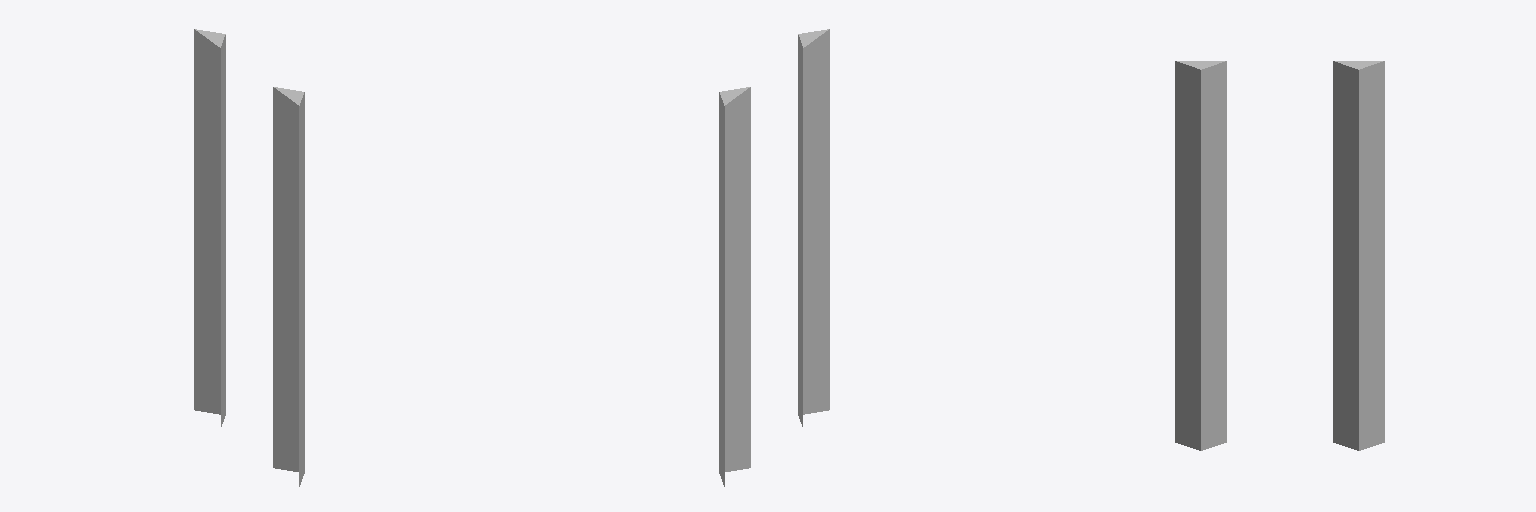
Rendered from cliffWaterFall.obj.
3 renders of one model, left to right at view 1: azimuth 30°, elevation 25°; view 2: azimuth 150°, elevation 25°; view 3: azimuth 270°, elevation 25°, orthographic.
Visible parts, largest first — view 1: Plane.001; view 2: Plane.001; view 3: Plane.001.
Boxes of the visible parts, <box> form: Plane.001: <box>194,29,304,486</box>; Plane.001: <box>719,29,829,486</box>; Plane.001: <box>1175,61,1384,450</box>.
Size of the model in its own units: 0.1 by 2 by 1.